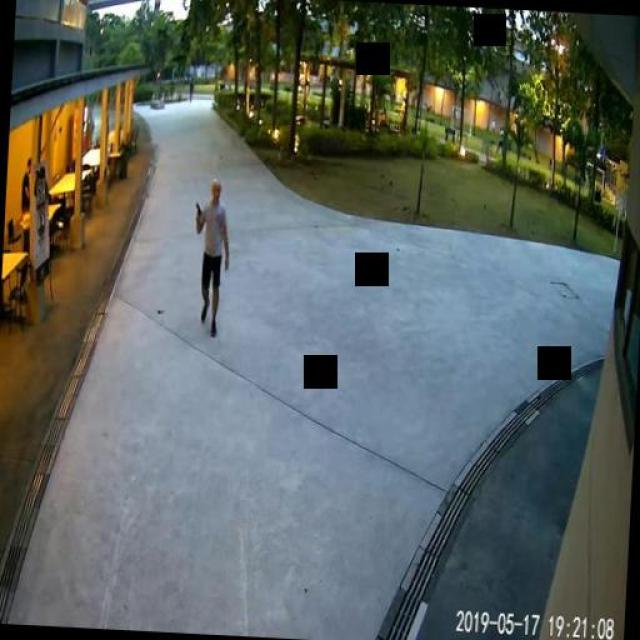gun: (192, 200, 202, 221)
